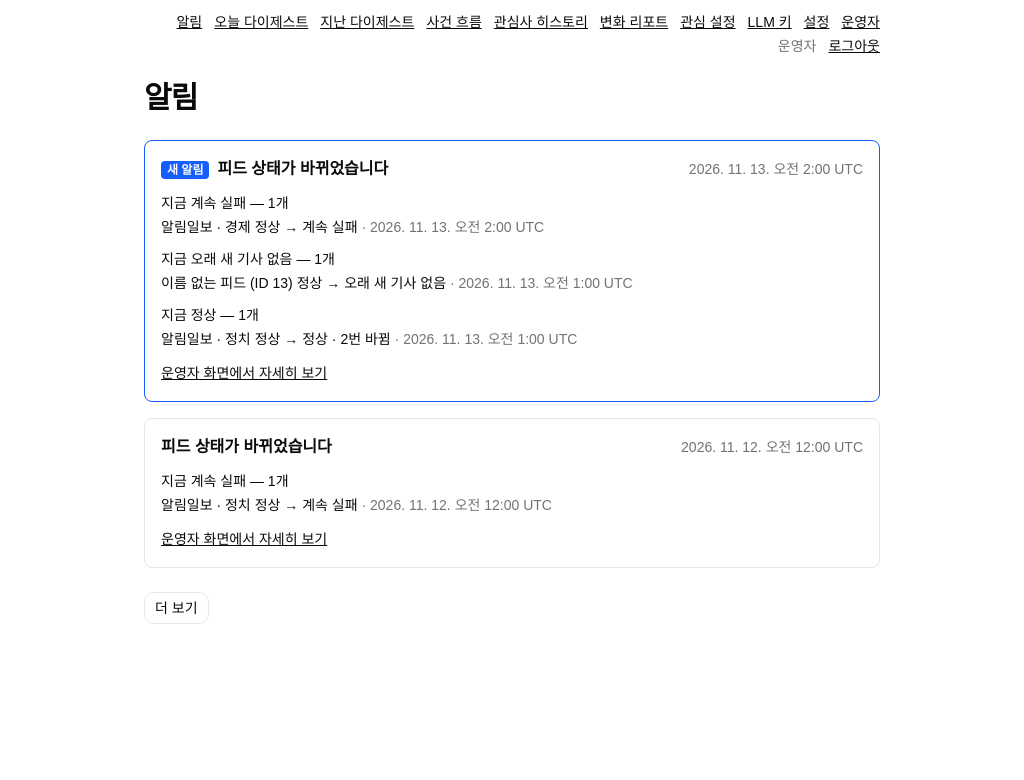
Test case: NoticesPage › 다음 쪽을 받으면 그 쪽의 안 읽은 알림을 보낸다
The image size is (1024, 780).
Click the button "더 보기" at (176, 608), box [144, 592, 208, 624]
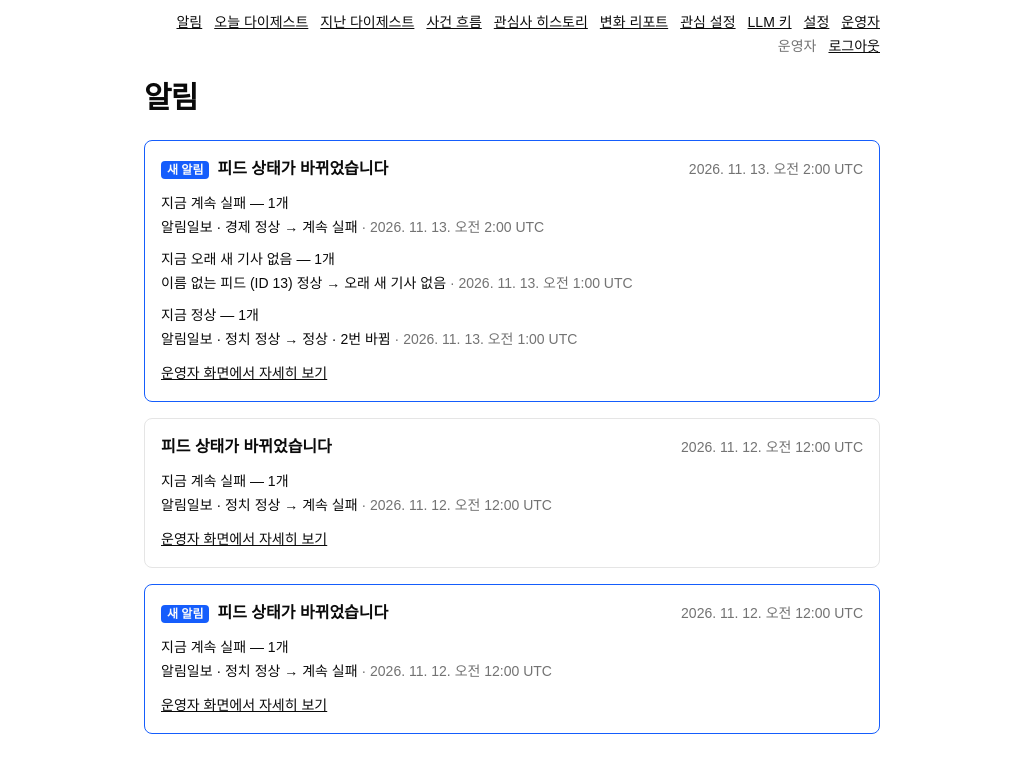
Result: the button "더 보기" is gone
